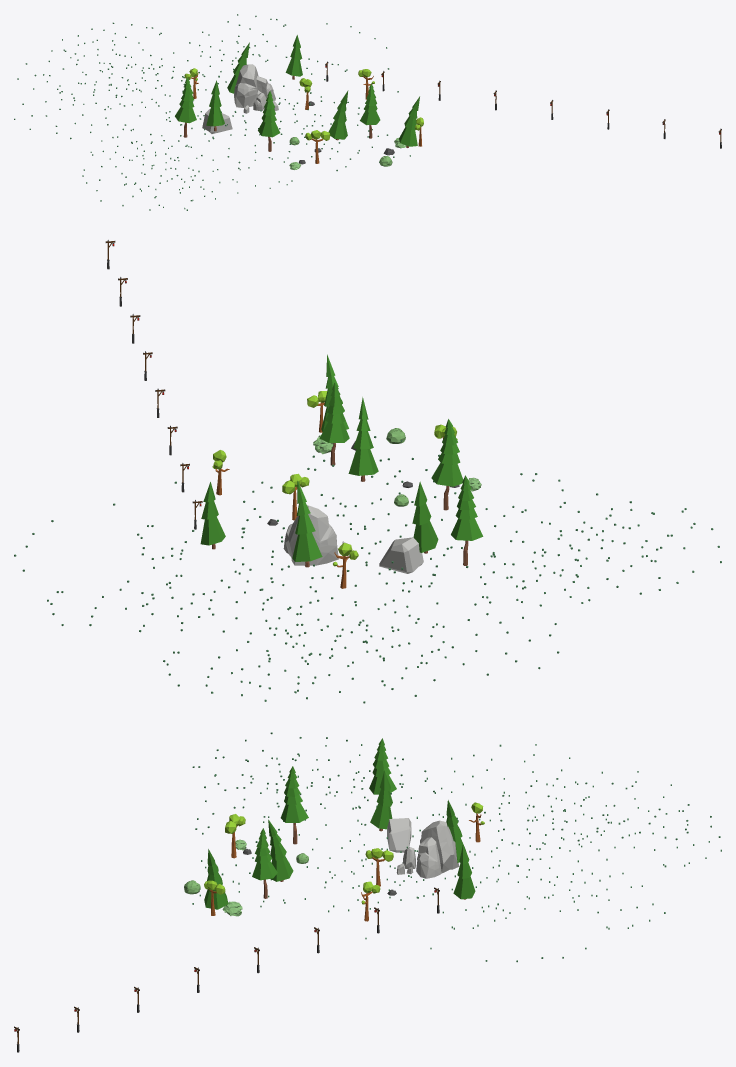
Rendered from chunk_0_2_lod0.glb.
3 renders of one model, top to bottom at view 1: azimuth 30°, elevation 25°; view 2: azimuth 150°, elevation 25°; view 3: azimuth 270°, elevation 25°, orthographic. The views are drawn at different scales.
Parts seen in each view (by area): view 1: Batched_chunk_0_2; view 2: Batched_chunk_0_2; view 3: Batched_chunk_0_2.
Boxes of the visible parts, left/top/right/bottom form: Batched_chunk_0_2: left=14, top=14, right=721, bottom=210; Batched_chunk_0_2: left=14, top=240, right=721, bottom=703; Batched_chunk_0_2: left=14, top=732, right=721, bottom=1052.
Size of the model in its own units: 110 by 13.75 by 103.
Materials: 12 (2 with a texture image).
